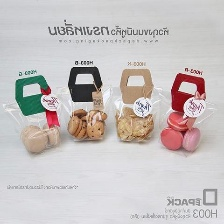snack: (150, 68, 221, 160), (0, 69, 70, 162), (52, 61, 116, 145), (108, 63, 166, 146)
